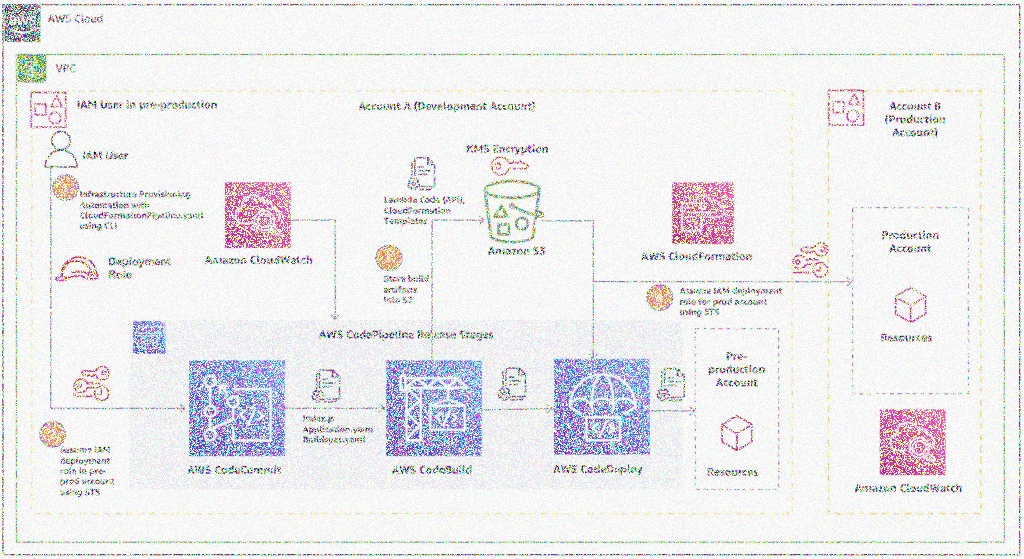Cloud Watch: (220, 179, 295, 250), (877, 408, 946, 477)
CloudFormation Stack: (668, 181, 737, 247)
CodeBuild: (384, 361, 486, 459)
CodeCommit: (187, 361, 286, 458)
CodeDeploy: (553, 356, 654, 459)
CodePipeline: (130, 317, 169, 357)
IAM: (66, 354, 113, 406), (790, 235, 834, 279)
IAM Role: (53, 251, 101, 289)
S3: (482, 177, 549, 246)
SDK: (891, 282, 932, 325), (717, 411, 757, 455)
Text File: (405, 149, 442, 195), (494, 362, 531, 404), (654, 363, 688, 408), (308, 363, 342, 407)
Users: (42, 127, 82, 172)
aws: (0, 1, 45, 44)
